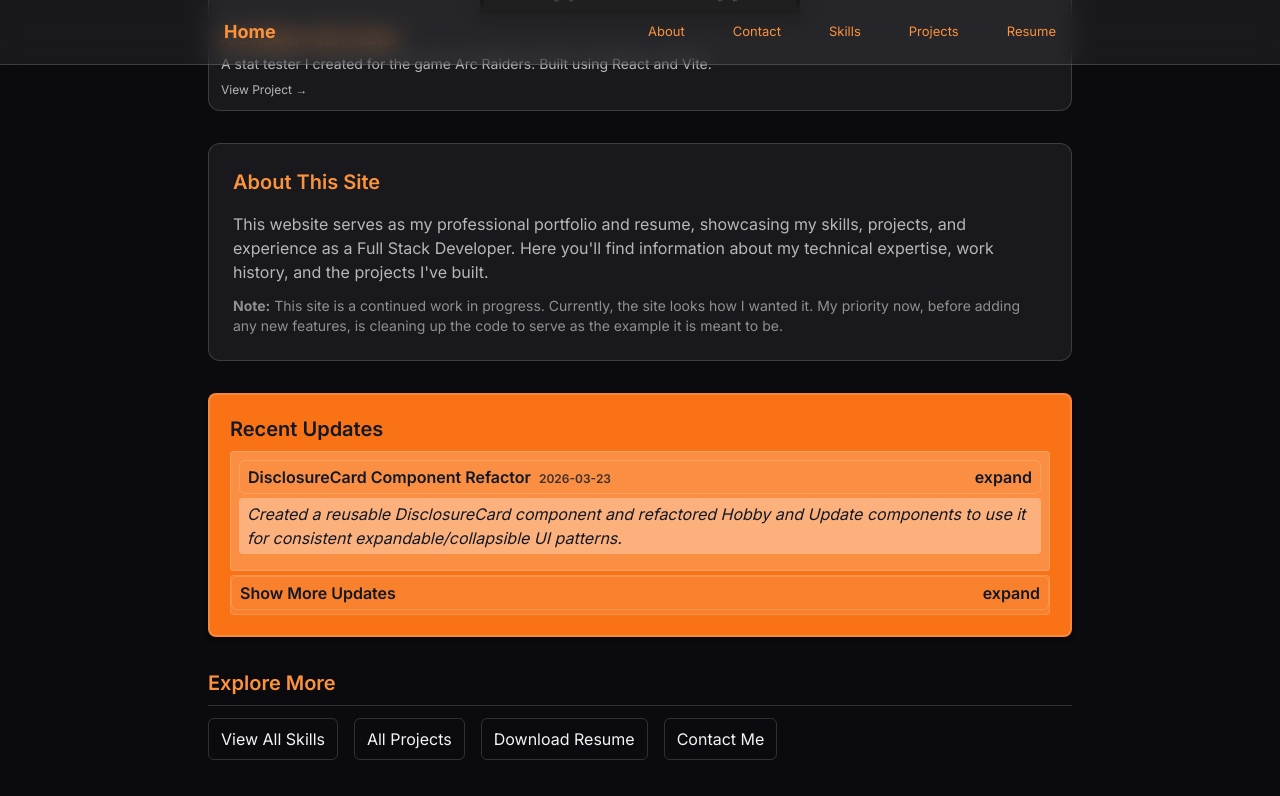
UpdateLog on Home Page › shows all details for the most recent update when expanded
(page scrolled)
Click the button with test id "disclosure-card-button-" at (389, 477), box [239, 460, 1041, 494]
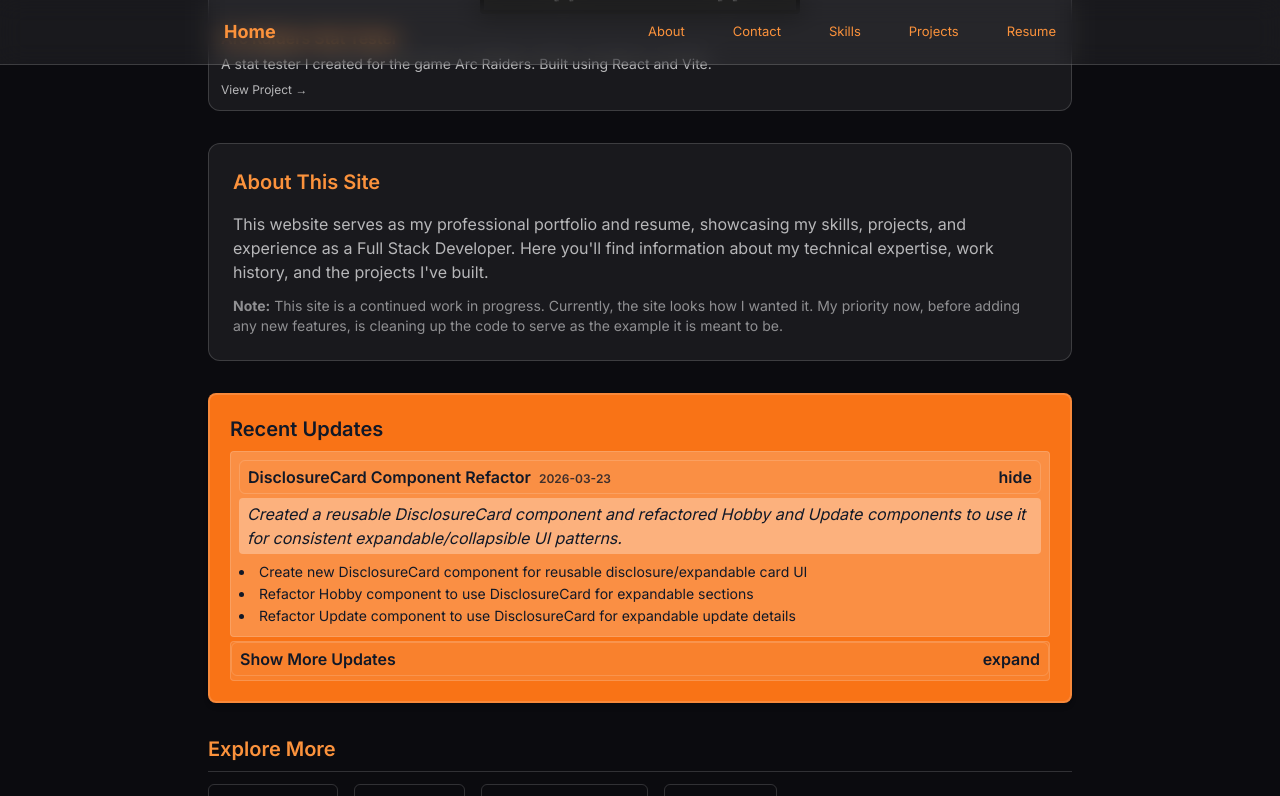
Expected: the list item with test id "update-detail-" is shown, [259, 563, 807, 580]
